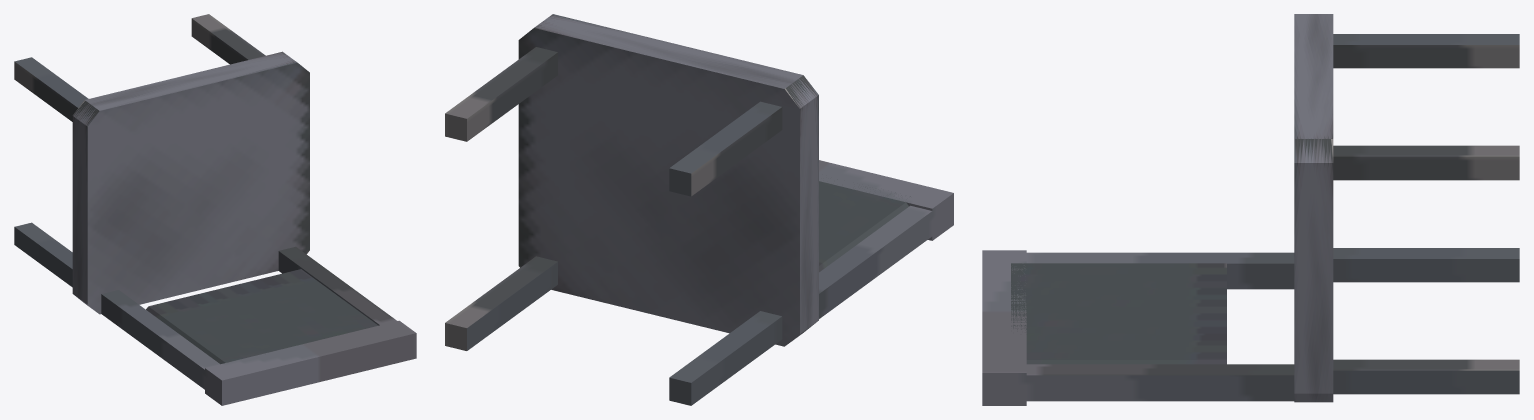
File: pz_chair_seating_indoor_01_grey.obj
3 views of the same model, side by side, from view 1: azimuth 30°, elevation 25°; view 2: azimuth 150°, elevation 25°; view 3: azimuth 270°, elevation 25° (orthographic). The views are drawn at different scales.
Bounding box in the file's own units: 0.64 × 0.575 × 1.03.
Materials: 1 (1 with a texture image).
